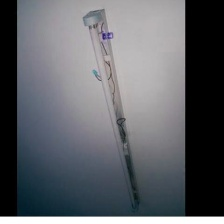light_bulb: (81, 12, 140, 213)
